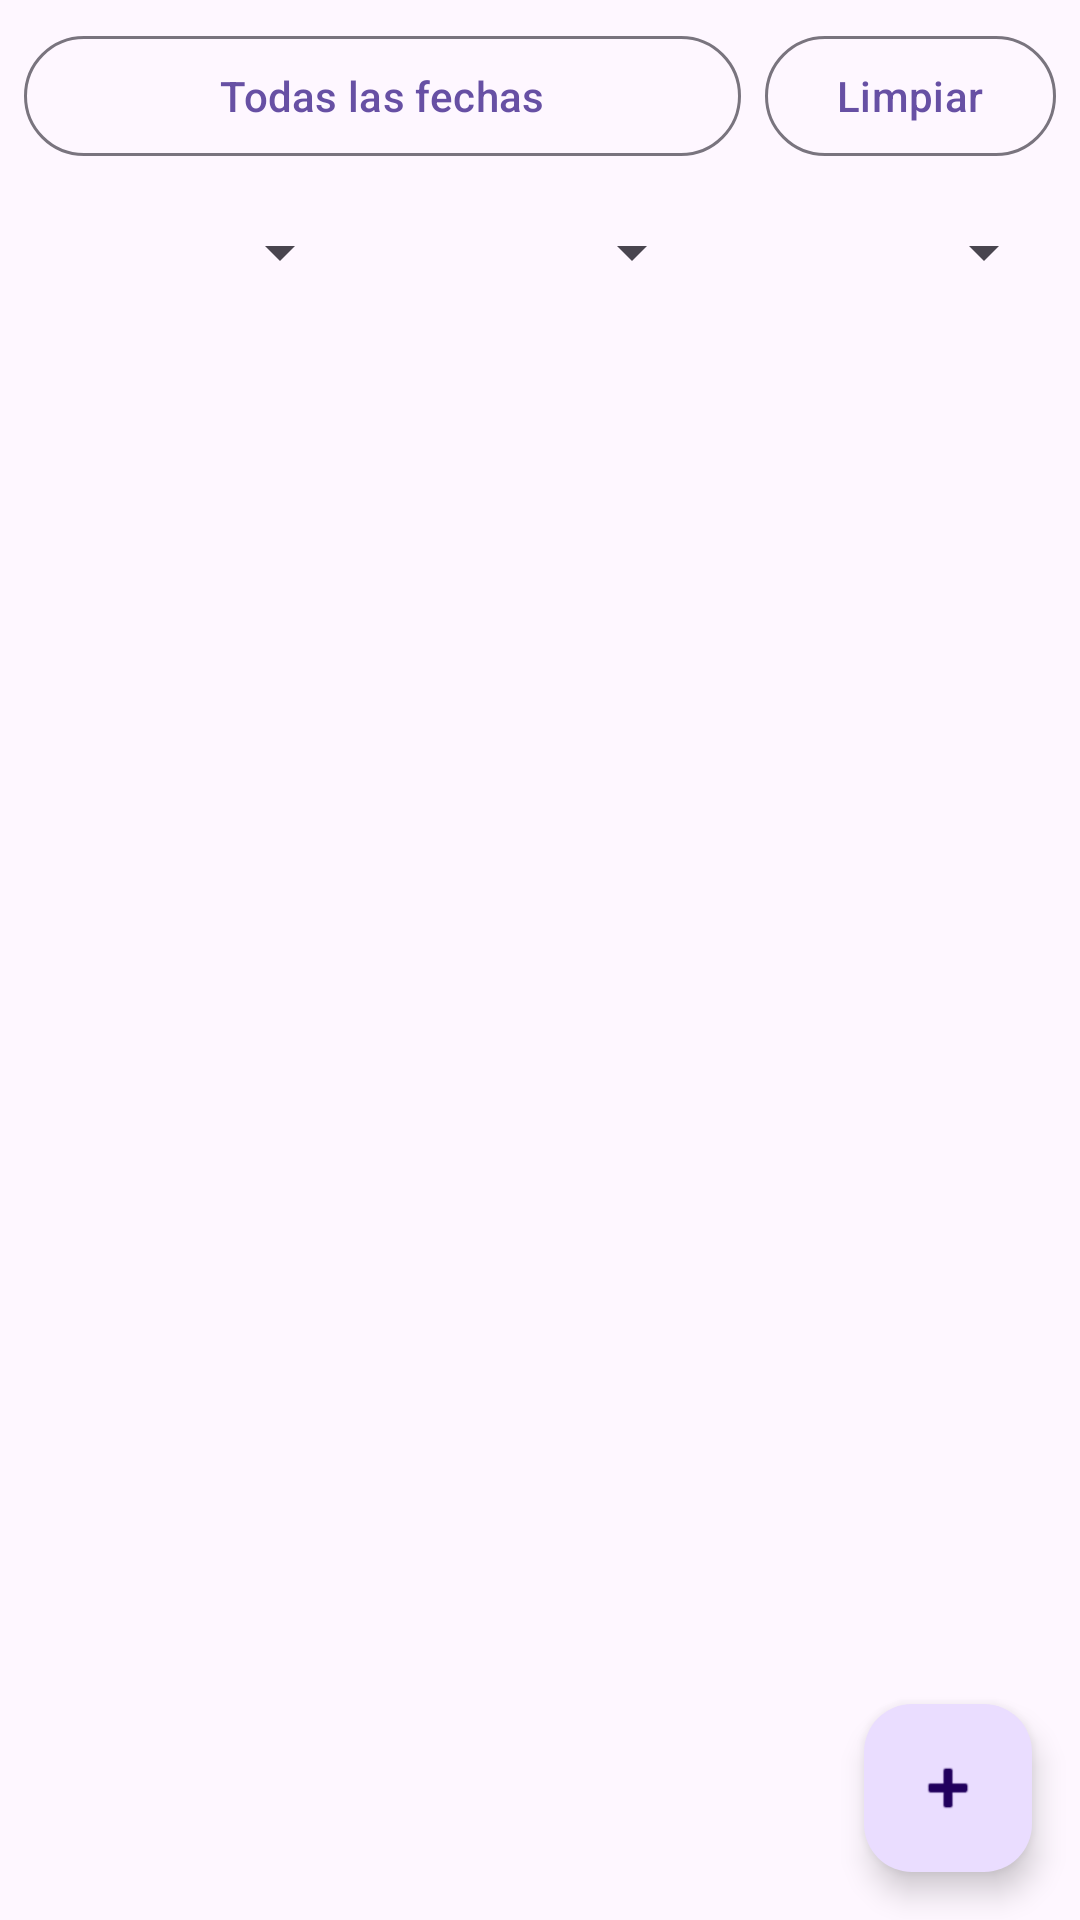

Screen size 1080px x 1920px. Icon name, then its center in pixels as point (x, y):
Nueva apuesta: point (948, 1788)
